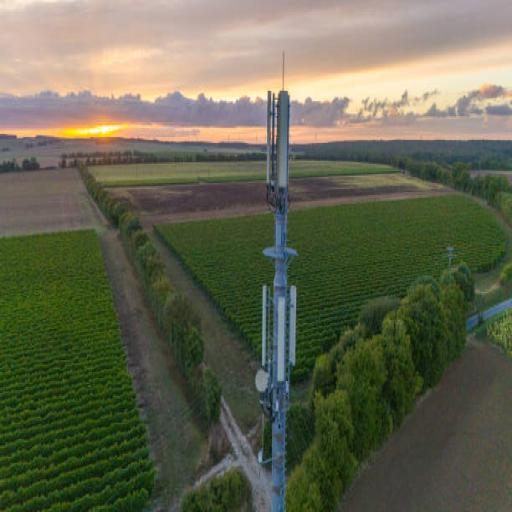monopole_tower: (252, 52, 300, 512)
